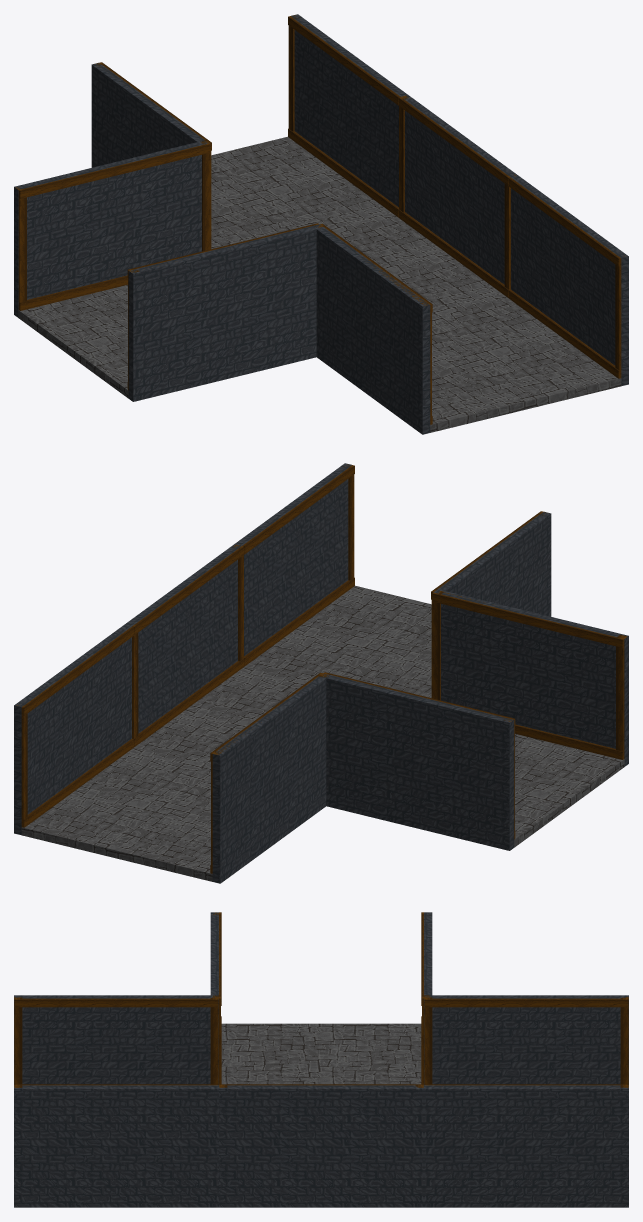
Rendered from T Stueck V1.fbx.
3 renders of one model, top to bottom at view 1: azimuth 30°, elevation 25°; view 2: azimuth 150°, elevation 25°; view 3: azimuth 270°, elevation 25°, orthographic. The views are drawn at different scales.
Parts seen in each view (by area): view 1: T Stück V1.005, T Stück V1.007, T Stück V1.006, T Stück V1.003, T Stück V1.010, T Stück V1.009, T Stück V1.011, T Stück V1.004, T Stück V1.002, T Stück V1.008, T Stück V1.001; view 2: T Stück V1.007, T Stück V1.005, T Stück V1.008, T Stück V1.004, T Stück V1.011, T Stück V1.009, T Stück V1.010, T Stück V1.003, T Stück V1.002, T Stück V1.006, T Stück V1.001; view 3: T Stück V1.009, T Stück V1.010, T Stück V1.011, T Stück V1.006, T Stück V1.008, T Stück V1.001, T Stück V1.005, T Stück V1.007.
Boxes of the visible parts, left/top/right/bottom form: T Stück V1.005: left=127, top=223, right=322, bottom=401; T Stück V1.007: left=14, top=141, right=210, bottom=317; T Stück V1.006: left=314, top=223, right=432, bottom=434; T Stück V1.003: left=430, top=298, right=621, bottom=432; T Stück V1.010: left=508, top=175, right=628, bottom=386; T Stück V1.009: left=398, top=95, right=517, bottom=297; T Stück V1.011: left=288, top=14, right=407, bottom=216; T Stück V1.004: left=211, top=136, right=397, bottom=248; T Stück V1.002: left=335, top=217, right=508, bottom=316; T Stück V1.008: left=91, top=62, right=211, bottom=249; T Stück V1.001: left=18, top=285, right=128, bottom=398; T Stück V1.007: left=322, top=672, right=515, bottom=850; T Stück V1.005: left=432, top=591, right=628, bottom=766; T Stück V1.008: left=210, top=672, right=330, bottom=883; T Stück V1.004: left=21, top=747, right=212, bottom=881; T Stück V1.011: left=14, top=624, right=134, bottom=835; T Stück V1.009: left=125, top=544, right=244, bottom=746; T Stück V1.010: left=235, top=463, right=354, bottom=665; T Stück V1.003: left=245, top=585, right=431, bottom=697; T Stück V1.002: left=134, top=666, right=307, bottom=765; T Stück V1.006: left=431, top=511, right=551, bottom=698; T Stück V1.001: left=514, top=734, right=624, bottom=847; T Stück V1.009: left=219, top=1084, right=423, bottom=1207; T Stück V1.010: left=14, top=1084, right=218, bottom=1207; T Stück V1.011: left=424, top=1084, right=628, bottom=1207; T Stück V1.006: left=14, top=995, right=218, bottom=1084; T Stück V1.008: left=424, top=995, right=628, bottom=1084; T Stück V1.001: left=221, top=1023, right=421, bottom=1084; T Stück V1.005: left=210, top=912, right=221, bottom=1084; T Stück V1.007: left=421, top=912, right=432, bottom=1084.
Bounding box in the file's own units: 1020 × 1500 × 320.
Materials: 1 (1 with a texture image).
